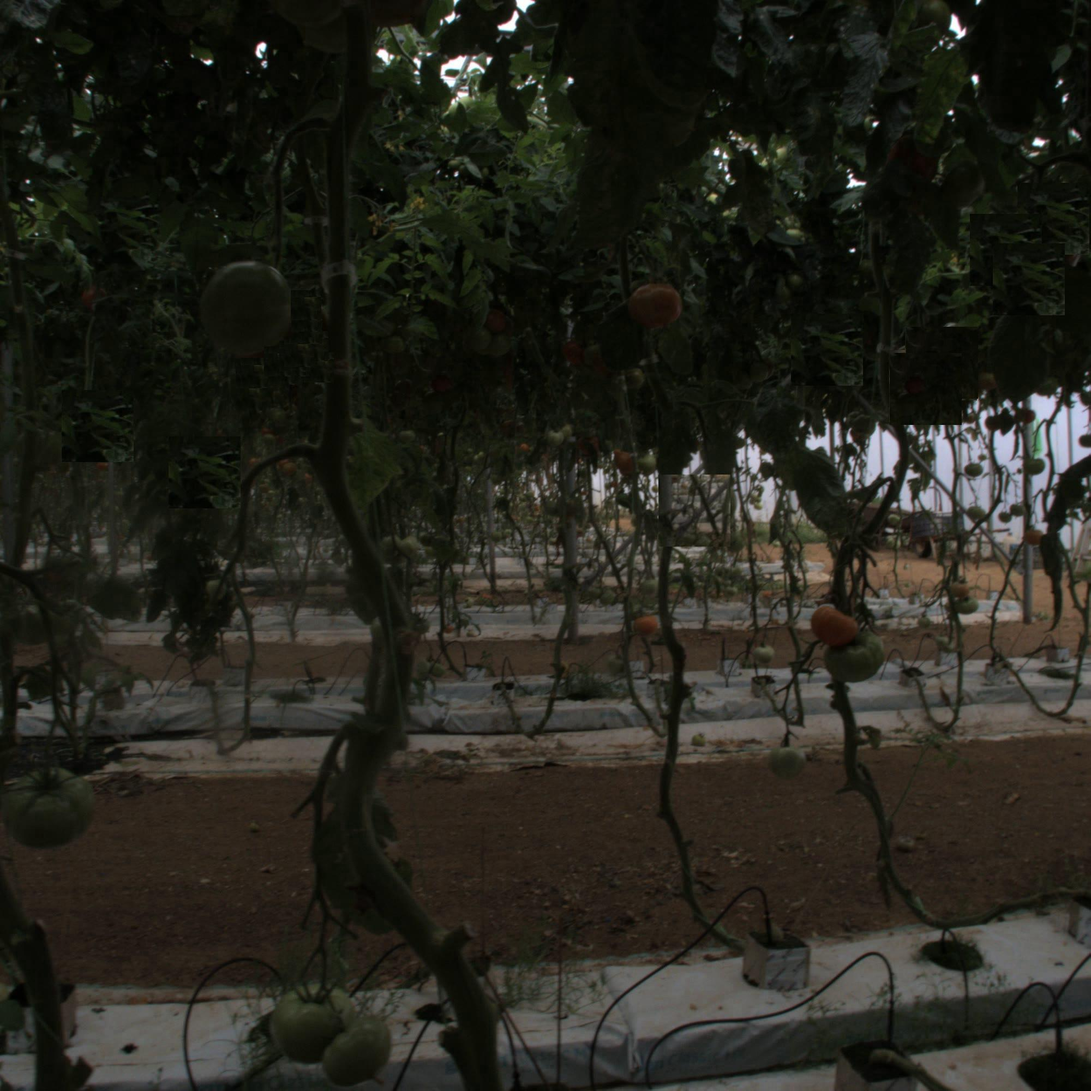['unripe', 'semi-ripe', 'fully-ripe']: (193, 255, 296, 358), (273, 978, 356, 1061), (7, 762, 89, 845), (317, 1010, 392, 1084), (823, 630, 878, 684)
